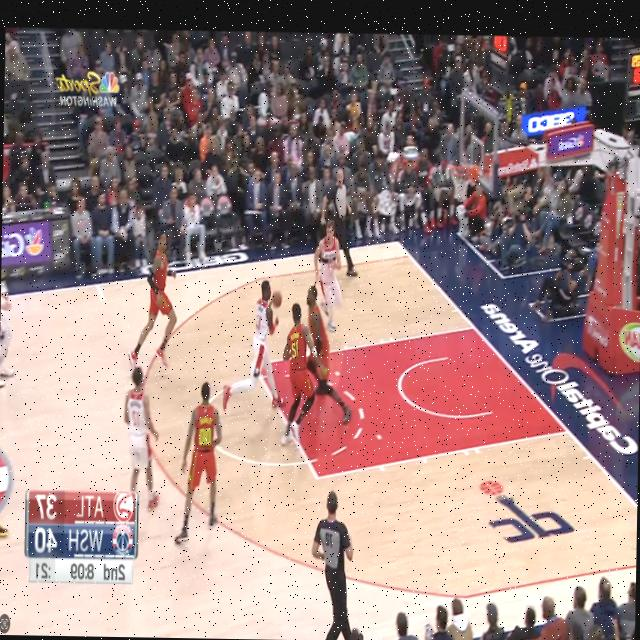no foul: (112, 357, 229, 576), (220, 280, 328, 466), (285, 217, 359, 384)
